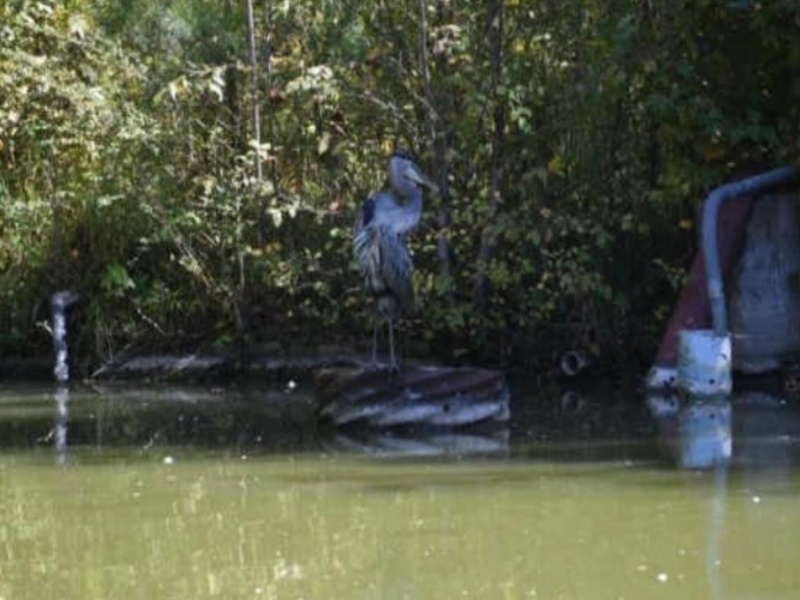heron: (352, 154, 439, 365)
